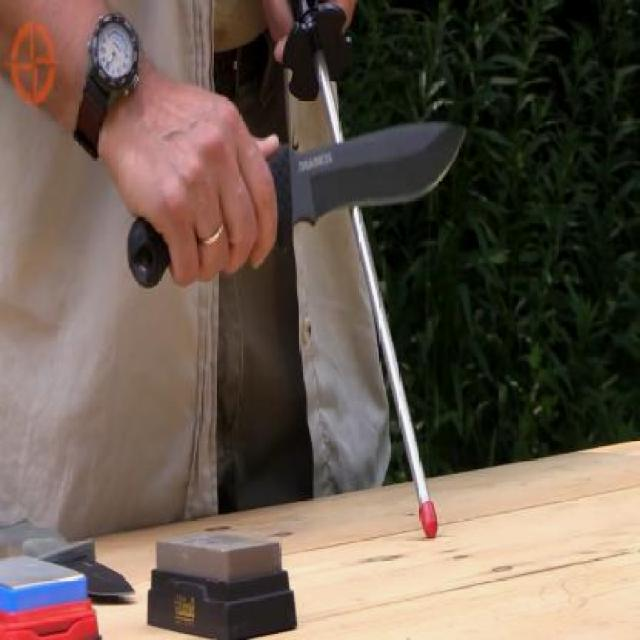knife: (120, 107, 477, 296)
